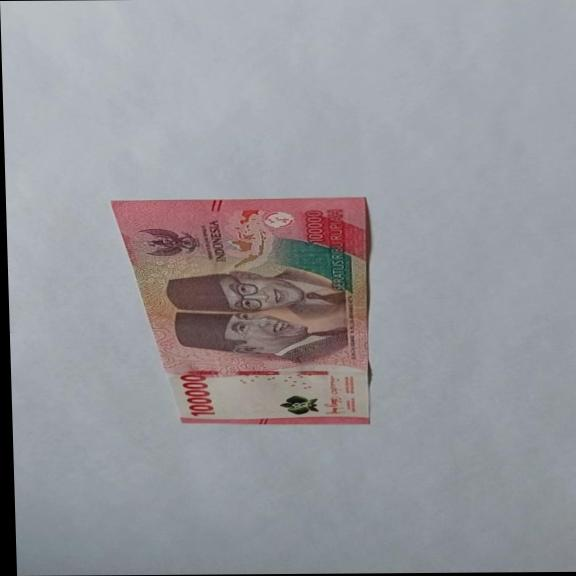Kertas: (109, 196, 376, 426), (178, 373, 215, 416)
